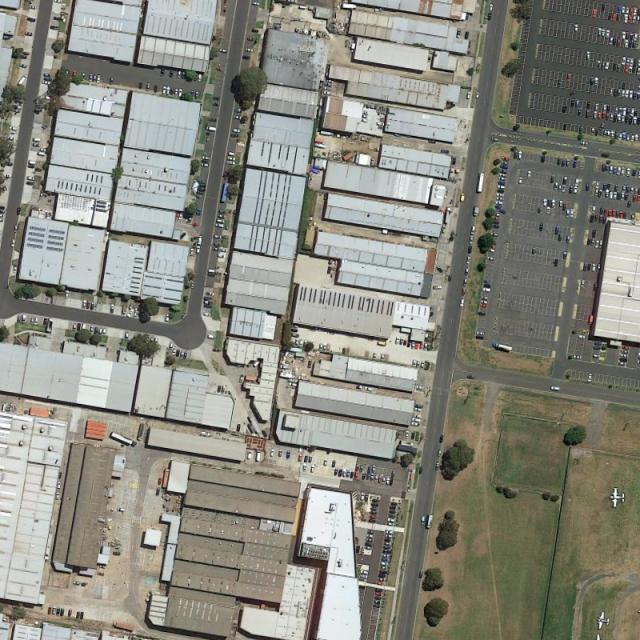vehicle: (492, 342, 513, 351), (17, 75, 26, 86), (255, 450, 261, 462), (127, 308, 134, 318), (475, 330, 486, 336), (588, 314, 594, 325), (501, 155, 510, 162), (6, 135, 16, 141), (183, 350, 189, 360), (247, 451, 253, 461), (414, 402, 424, 408), (478, 310, 486, 317), (206, 126, 217, 131), (197, 235, 202, 246), (189, 246, 194, 257), (203, 300, 214, 305), (411, 417, 422, 422), (550, 386, 561, 391), (32, 137, 41, 143), (37, 151, 46, 157), (10, 238, 16, 247), (219, 47, 228, 53), (233, 107, 242, 113), (206, 291, 215, 297), (418, 570, 424, 579), (623, 14, 629, 23), (596, 60, 602, 69), (608, 87, 614, 96), (493, 211, 502, 217), (616, 166, 622, 175), (482, 278, 491, 284), (478, 303, 487, 309), (43, 77, 53, 82), (4, 162, 14, 167), (26, 176, 36, 181), (43, 316, 48, 326), (208, 334, 218, 339), (161, 66, 166, 76), (226, 160, 236, 165), (202, 155, 212, 160), (190, 280, 195, 290), (433, 285, 443, 290), (457, 28, 462, 38), (461, 192, 466, 202), (474, 206, 479, 216), (616, 38, 621, 48), (569, 184, 574, 194), (10, 125, 18, 131), (110, 302, 114, 314), (228, 151, 236, 157), (599, 122, 605, 130), (550, 175, 556, 183), (631, 168, 637, 176), (2, 173, 11, 178), (75, 610, 80, 619), (79, 611, 84, 620), (124, 331, 129, 340), (172, 346, 177, 355), (109, 77, 114, 86), (177, 70, 182, 79), (242, 55, 251, 60), (230, 133, 239, 138), (338, 469, 343, 478), (354, 470, 359, 479), (355, 463, 360, 472), (368, 518, 377, 523), (363, 545, 372, 550), (379, 569, 388, 574), (404, 430, 409, 439), (414, 414, 423, 419), (365, 386, 374, 391), (318, 342, 323, 351), (466, 91, 471, 100), (487, 12, 492, 21), (489, 2, 494, 11), (490, 137, 499, 142), (463, 278, 468, 287), (460, 298, 465, 307), (628, 14, 633, 23), (633, 32, 638, 41), (621, 57, 626, 66), (617, 88, 622, 97), (621, 89, 626, 98), (577, 108, 582, 117), (621, 114, 626, 123), (497, 181, 506, 186), (499, 209, 508, 214), (490, 232, 499, 237), (487, 247, 496, 252), (527, 170, 532, 179), (563, 175, 568, 184), (601, 164, 606, 173), (554, 225, 559, 234), (594, 214, 599, 223), (598, 240, 603, 249), (594, 239, 599, 248), (482, 287, 491, 292), (587, 373, 592, 382), (573, 354, 582, 359), (562, 250, 567, 259), (554, 258, 559, 267), (583, 262, 588, 271), (587, 263, 592, 272), (581, 279, 586, 288), (593, 345, 602, 350), (379, 566, 390, 570), (415, 386, 426, 390), (247, 36, 254, 42), (538, 223, 544, 230), (632, 195, 638, 202), (42, 80, 50, 85), (29, 160, 37, 165), (17, 314, 22, 322), (52, 606, 56, 616), (60, 608, 65, 616), (82, 299, 86, 309), (98, 327, 103, 335), (72, 70, 77, 78), (89, 73, 94, 81), (97, 74, 101, 84), (138, 82, 143, 90), (178, 88, 182, 98), (195, 91, 199, 101), (213, 96, 221, 101), (233, 114, 241, 119), (233, 128, 241, 133), (200, 162, 210, 166), (217, 218, 225, 223), (214, 234, 222, 239), (220, 248, 228, 253), (217, 385, 222, 393), (270, 448, 274, 458), (289, 382, 297, 387), (238, 374, 243, 382), (303, 455, 308, 463), (303, 463, 307, 473), (310, 465, 315, 473), (331, 459, 336, 467), (359, 464, 364, 472), (361, 472, 366, 480), (382, 474, 386, 484), (384, 534, 394, 538), (382, 554, 392, 558), (380, 562, 390, 566), (435, 462, 440, 470), (410, 422, 420, 426), (414, 407, 422, 412), (299, 339, 304, 347), (372, 351, 377, 359), (399, 337, 404, 345), (423, 342, 428, 350), (465, 31, 470, 39), (470, 226, 475, 234), (469, 235, 473, 245), (574, 23, 579, 31), (605, 62, 610, 70), (625, 66, 630, 74), (636, 66, 640, 76), (589, 77, 594, 85), (566, 74, 571, 82), (586, 102, 591, 110), (602, 110, 606, 120), (622, 106, 626, 116), (630, 107, 634, 117), (629, 115, 633, 125), (580, 141, 588, 146), (578, 125, 583, 133), (610, 130, 614, 140), (614, 131, 619, 139), (622, 131, 626, 141), (626, 132, 630, 142), (630, 133, 634, 143), (500, 168, 508, 173), (487, 255, 495, 260), (518, 177, 523, 185), (573, 186, 578, 194), (585, 183, 590, 191), (614, 165, 618, 175), (537, 206, 542, 214), (547, 199, 552, 207), (595, 180, 599, 190), (624, 194, 629, 202), (630, 186, 635, 194), (612, 208, 616, 218), (619, 210, 624, 218), (589, 214, 594, 222), (591, 230, 596, 238), (578, 334, 586, 339), (558, 233, 563, 241), (619, 358, 629, 362), (12, 109, 21, 113), (38, 148, 47, 152), (17, 206, 21, 215), (26, 182, 35, 186), (14, 224, 18, 233), (22, 314, 26, 323), (30, 315, 34, 324), (34, 317, 38, 326), (68, 608, 72, 617), (72, 321, 76, 330), (77, 322, 81, 331), (90, 325, 94, 334), (86, 300, 90, 309), (150, 334, 154, 343), (166, 313, 170, 322), (176, 349, 180, 358), (93, 73, 97, 82), (146, 82, 150, 91), (154, 84, 158, 93), (162, 85, 166, 94), (166, 86, 170, 95), (170, 87, 174, 96), (198, 74, 202, 83), (212, 102, 221, 106), (215, 224, 224, 228), (203, 297, 212, 301), (203, 305, 212, 309), (278, 449, 282, 458), (309, 454, 313, 463), (370, 473, 374, 482), (386, 475, 390, 484), (361, 492, 365, 501), (367, 530, 376, 534), (360, 570, 369, 574), (385, 530, 394, 534), (421, 515, 425, 524), (383, 541, 392, 545), (383, 546, 392, 550), (381, 558, 390, 562), (374, 588, 383, 592), (323, 343, 327, 352), (613, 12, 617, 21), (602, 28, 606, 37), (606, 29, 610, 38), (625, 39, 629, 48), (586, 51, 590, 60), (602, 61, 606, 70), (594, 77, 598, 86), (614, 88, 618, 97), (570, 98, 574, 107), (562, 105, 566, 114), (603, 104, 607, 113), (598, 110, 602, 119), (590, 127, 594, 136), (518, 150, 522, 159), (541, 154, 545, 163), (573, 159, 577, 168), (500, 161, 509, 165), (621, 166, 625, 175), (626, 167, 630, 176), (563, 201, 567, 210), (566, 209, 570, 218), (570, 209, 574, 218), (610, 190, 614, 199), (617, 192, 621, 201), (607, 209, 611, 218), (592, 262, 596, 271), (481, 295, 490, 299), (475, 336, 484, 340), (593, 354, 602, 358), (620, 354, 629, 358), (28, 17, 35, 22), (43, 72, 50, 77), (204, 311, 211, 316), (592, 10, 597, 17), (557, 158, 562, 165), (546, 207, 551, 214), (586, 238, 591, 245), (29, 6, 37, 10), (22, 51, 30, 55), (32, 142, 40, 146), (56, 607, 60, 615), (65, 290, 69, 298), (94, 326, 98, 334), (102, 328, 106, 336), (154, 336, 158, 344), (169, 342, 173, 350), (180, 350, 184, 358), (170, 70, 174, 78), (174, 89, 178, 97), (190, 90, 194, 98), (245, 48, 253, 52), (227, 156, 235, 160), (211, 246, 219, 250), (218, 254, 226, 258), (197, 246, 201, 254), (222, 386, 226, 394), (286, 450, 290, 458), (298, 454, 302, 462), (324, 458, 328, 466), (334, 468, 338, 476), (342, 470, 346, 478), (346, 470, 350, 478), (350, 471, 354, 479), (374, 474, 378, 482), (378, 474, 382, 482), (370, 503, 378, 507), (370, 506, 378, 510), (370, 510, 378, 514), (370, 514, 378, 518), (366, 538, 374, 542), (365, 542, 373, 546), (389, 506, 397, 510), (388, 514, 396, 518), (387, 518, 395, 522), (386, 522, 394, 526), (378, 574, 386, 578), (375, 592, 383, 596), (439, 435, 443, 443), (294, 338, 298, 346), (381, 353, 385, 361), (412, 359, 416, 367), (421, 361, 425, 369), (395, 336, 399, 344), (415, 342, 419, 350), (448, 274, 452, 282), (468, 246, 472, 254), (466, 256, 470, 264), (465, 267, 469, 275), (462, 288, 466, 296), (617, 6, 621, 14), (625, 6, 629, 14), (633, 6, 637, 14), (636, 15, 640, 23), (613, 38, 617, 46), (628, 41, 632, 49), (626, 31, 630, 39), (626, 57, 630, 65), (630, 58, 634, 66), (558, 80, 562, 88), (625, 90, 629, 98), (629, 90, 633, 98), (586, 110, 590, 118), (610, 113, 614, 121), (614, 106, 618, 114), (614, 114, 618, 122), (606, 130, 610, 138), (618, 132, 622, 140), (634, 134, 638, 142), (514, 150, 518, 158), (566, 158, 570, 166), (562, 158, 566, 166), (500, 165, 508, 169), (498, 177, 506, 181), (498, 185, 506, 189), (496, 197, 504, 201), (554, 182, 558, 190), (562, 184, 566, 192), (558, 184, 562, 192), (598, 190, 602, 198), (605, 190, 609, 198), (613, 191, 617, 199), (622, 193, 626, 201), (626, 184, 630, 192), (635, 186, 639, 194), (615, 210, 619, 218), (630, 213, 634, 221), (602, 216, 606, 224), (566, 234, 570, 242), (483, 284, 491, 288), (481, 300, 489, 304), (531, 246, 535, 254), (618, 362, 626, 366), (622, 346, 630, 350), (20, 63, 26, 68), (376, 578, 386, 581), (592, 204, 595, 214), (25, 31, 32, 35), (28, 164, 35, 168), (13, 265, 17, 272), (82, 323, 86, 330), (367, 466, 371, 473), (372, 465, 376, 472), (390, 502, 397, 506), (367, 534, 374, 538), (360, 574, 367, 578), (389, 510, 396, 514), (438, 450, 442, 457), (403, 339, 407, 346), (411, 342, 415, 349), (608, 12, 612, 19), (630, 7, 634, 14), (633, 41, 637, 48), (575, 99, 579, 106), (594, 111, 598, 118), (633, 117, 637, 124), (617, 64, 621, 71), (602, 130, 606, 137), (499, 173, 506, 177), (497, 193, 504, 197), (496, 202, 503, 206), (493, 216, 500, 220), (603, 184, 607, 191), (614, 184, 618, 191), (627, 201, 631, 208), (598, 215, 602, 222), (590, 239, 594, 246), (91, 301, 94, 310), (237, 423, 240, 432), (213, 348, 222, 351), (384, 538, 393, 541), (376, 582, 385, 585), (417, 359, 420, 368), (633, 90, 636, 99), (618, 114, 621, 123), (598, 263, 601, 272), (48, 606, 51, 614), (252, 2, 260, 5), (366, 474, 369, 482), (365, 494, 368, 502), (419, 342, 422, 350), (476, 92, 480, 98), (622, 6, 625, 14), (622, 31, 625, 39), (609, 38, 613, 44), (595, 103, 598, 111), (610, 165, 613, 173), (543, 198, 546, 206), (559, 201, 562, 209), (594, 189, 598, 195), (622, 185, 626, 191), (622, 350, 630, 353), (407, 341, 410, 348), (598, 28, 601, 35), (497, 190, 504, 193), (552, 200, 555, 207), (372, 499, 378, 502), (638, 58, 640, 66)
